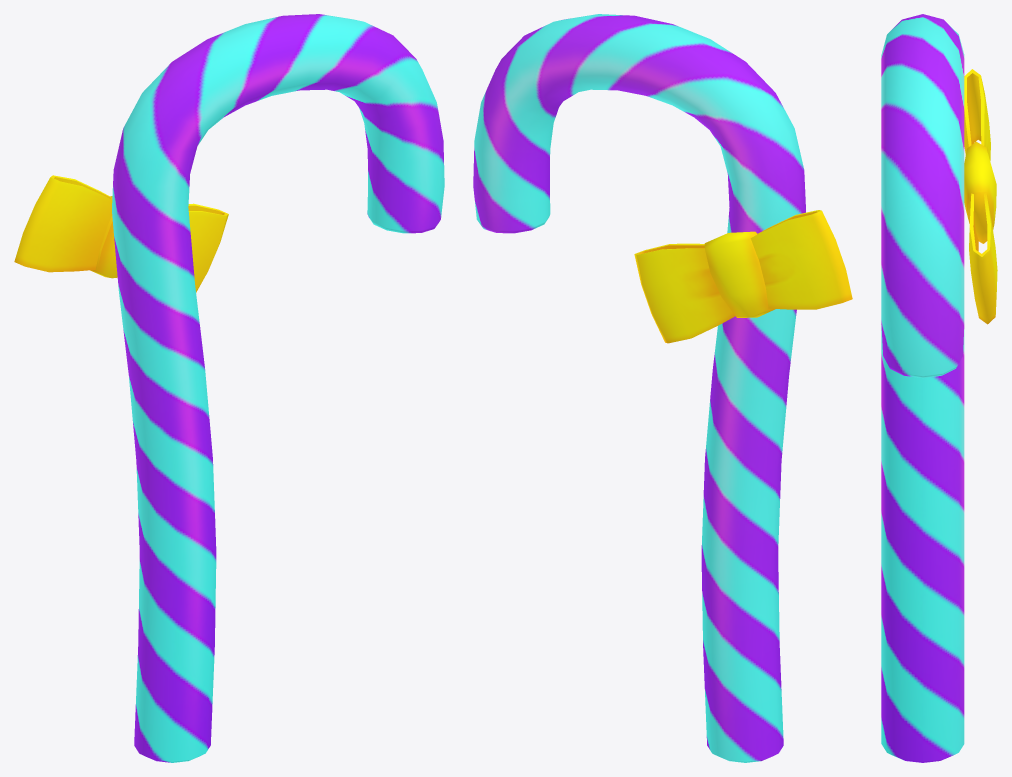
File: HalloweenItem_Candy02.glb
The picture shows the model from 3 angles, left to right: view 1: azimuth 30°, elevation 25°; view 2: azimuth 150°, elevation 25°; view 3: azimuth 270°, elevation 25°; orthographic projection. The views are drawn at different scales.
Visible parts, largest first — view 1: M_candy02, M_ribbon02; view 2: M_candy02, M_ribbon02; view 3: M_candy02, M_ribbon02.
Boxes of the visible parts, x1=… form: M_candy02: x1=112, y1=14, x2=444, y2=762; M_ribbon02: x1=14, y1=175, x2=228, y2=292; M_candy02: x1=473, y1=14, x2=805, y2=762; M_ribbon02: x1=634, y1=210, x2=852, y2=343; M_candy02: x1=881, y1=14, x2=964, y2=762; M_ribbon02: x1=964, y1=69, x2=997, y2=324.
Bounding box in the file's own units: 0.0814 × 0.1371 × 0.0189.
Materials: 1 (1 with a texture image).
